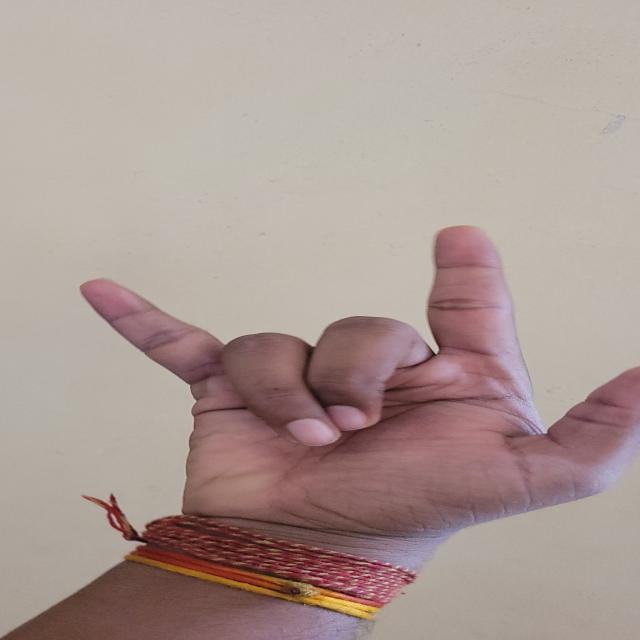i like you: (37, 195, 640, 597)
